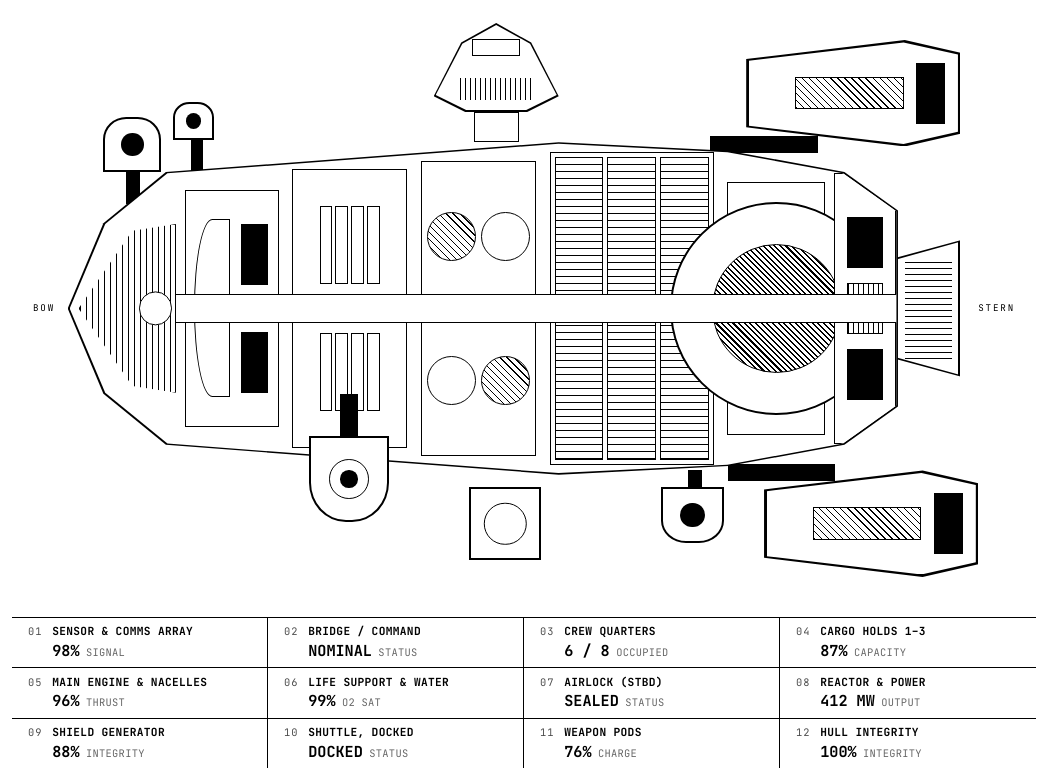
it: ShipStatusOverview › clears the highlight when the active button is clicked again
This screenshot has width=1048, height=768.
Click the button "Reactor & Power" at (908, 694), box [780,668,1036,719]
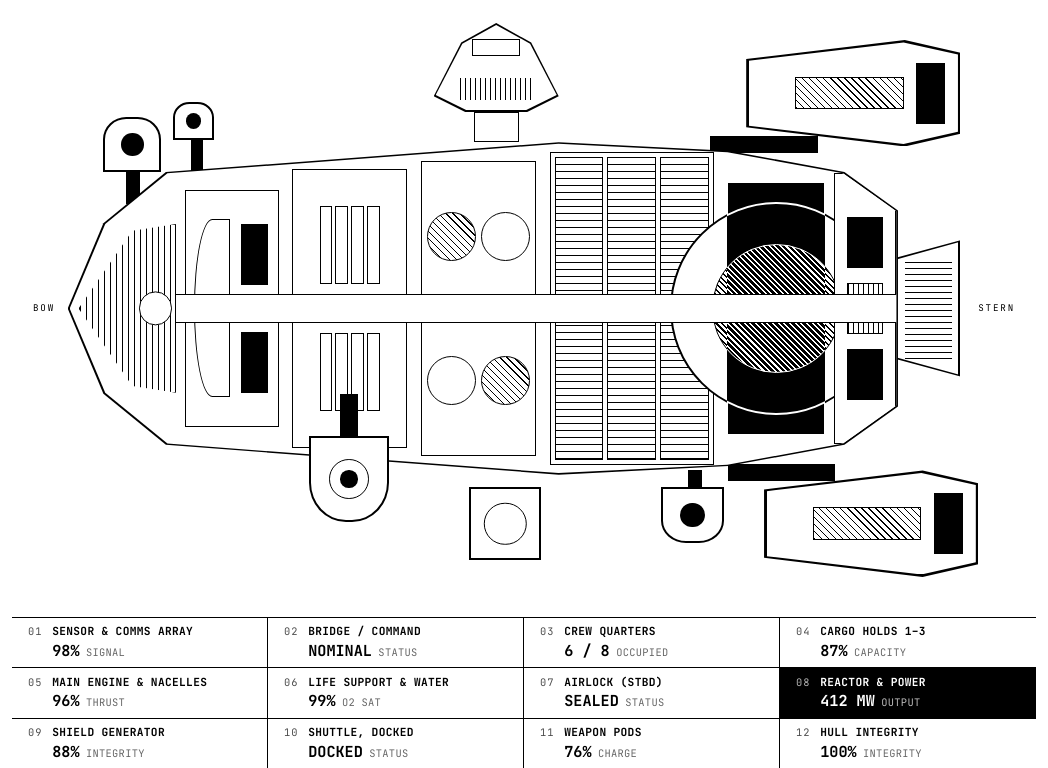
Click the button "Reactor & Power" at (908, 694), box [780,668,1036,719]
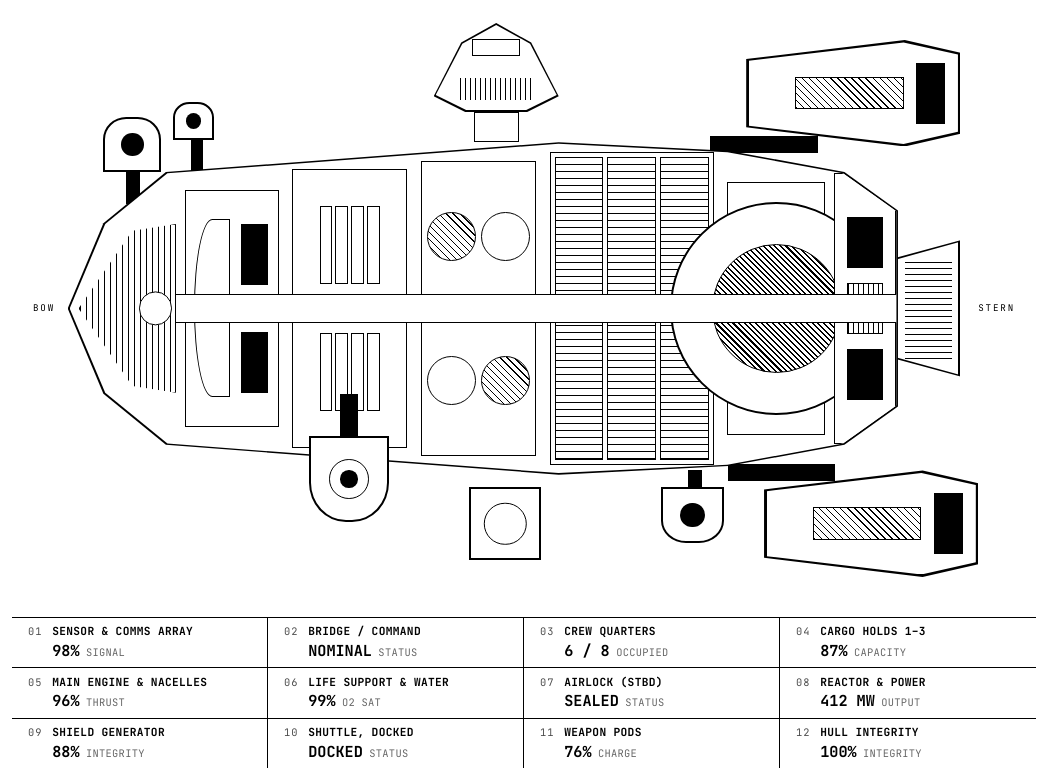
Now no elements with class "ship-diagram__highlight" are shown
